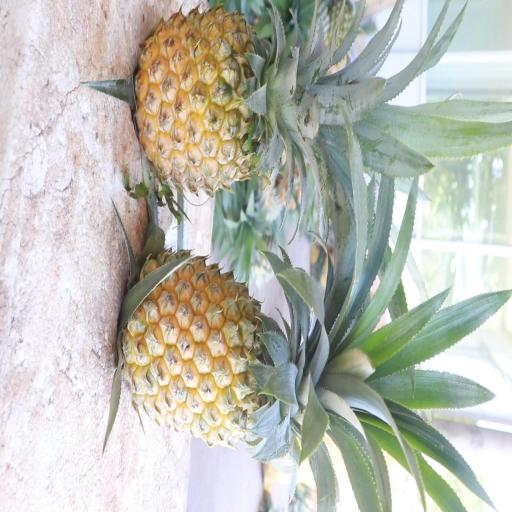Pineapple - v8 v1: (116, 247, 376, 454), (131, 3, 351, 199)
